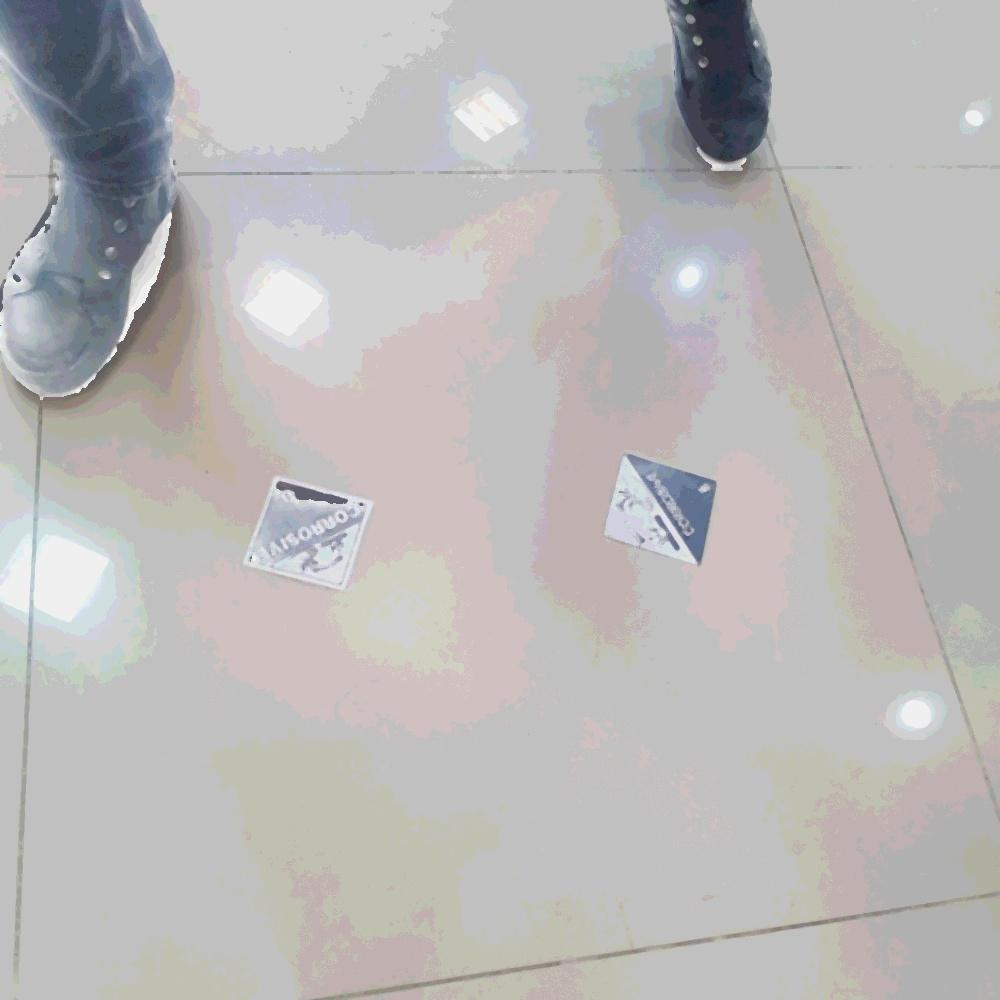corrosive: (245, 477, 372, 592), (603, 454, 719, 568)
